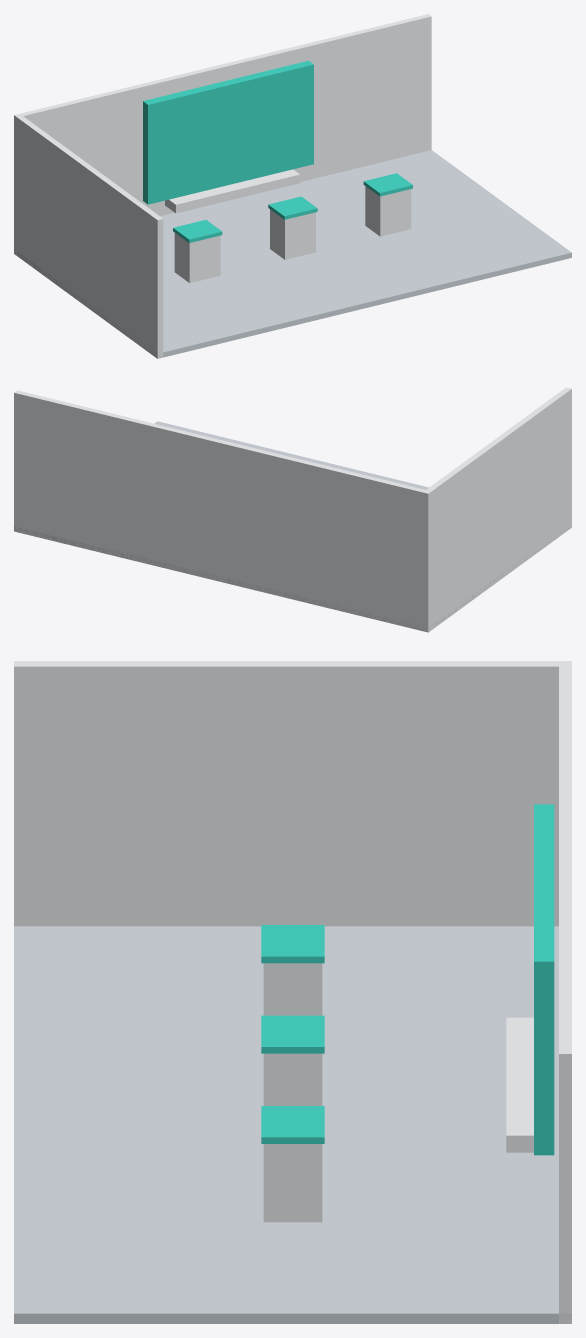
3 views of the same model, one above another, from view 1: azimuth 30°, elevation 25°; view 2: azimuth 150°, elevation 25°; view 3: azimuth 270°, elevation 25° (orthographic). The views are drawn at different scales.
Parts seen in each view (by area): view 1: Exhibition Booth Concept; view 2: Exhibition Booth Concept; view 3: Exhibition Booth Concept.
Part boxes in pixels (x1=…): Exhibition Booth Concept: x1=14, y1=14, x2=571, y2=358; Exhibition Booth Concept: x1=14, y1=387, x2=571, y2=632; Exhibition Booth Concept: x1=14, y1=661, x2=571, y2=1323.
Size of the model in its own units: 10 by 3.2 by 6.
